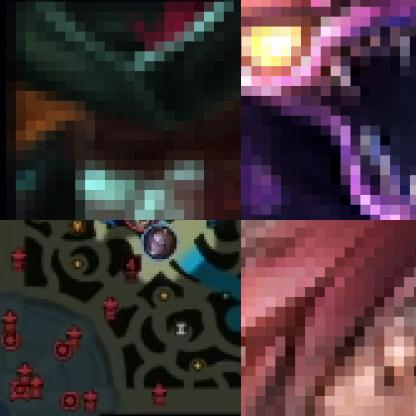Gangplank: (0, 0, 240, 219)
Orianna: (142, 224, 178, 260)
Sett: (241, 220, 415, 415)
Skarner: (241, 0, 415, 219)
Tryndamere: (124, 220, 163, 233)
